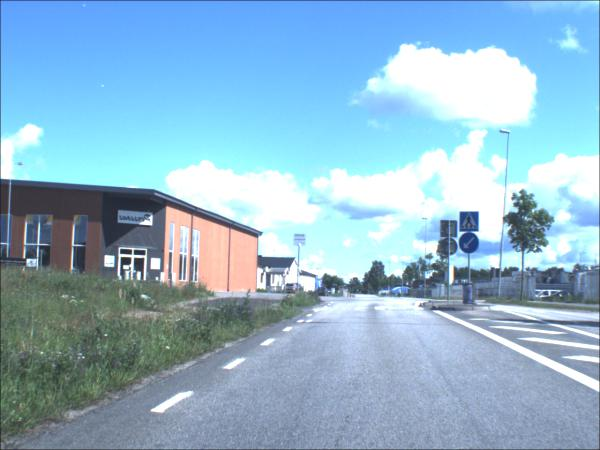PASS_RIGHT_SIDE: (459, 234, 480, 255)
PEDESTRIAN_CROSSING: (460, 213, 479, 233)
